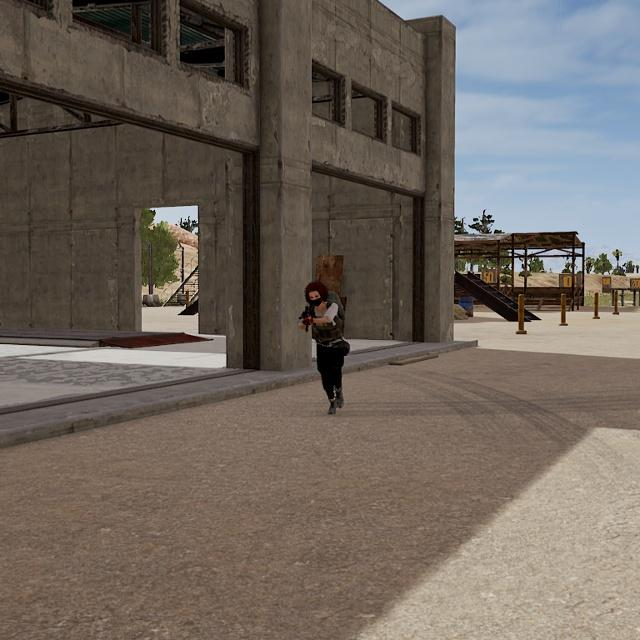head: (307, 287, 325, 309)
people: (300, 279, 349, 417)
